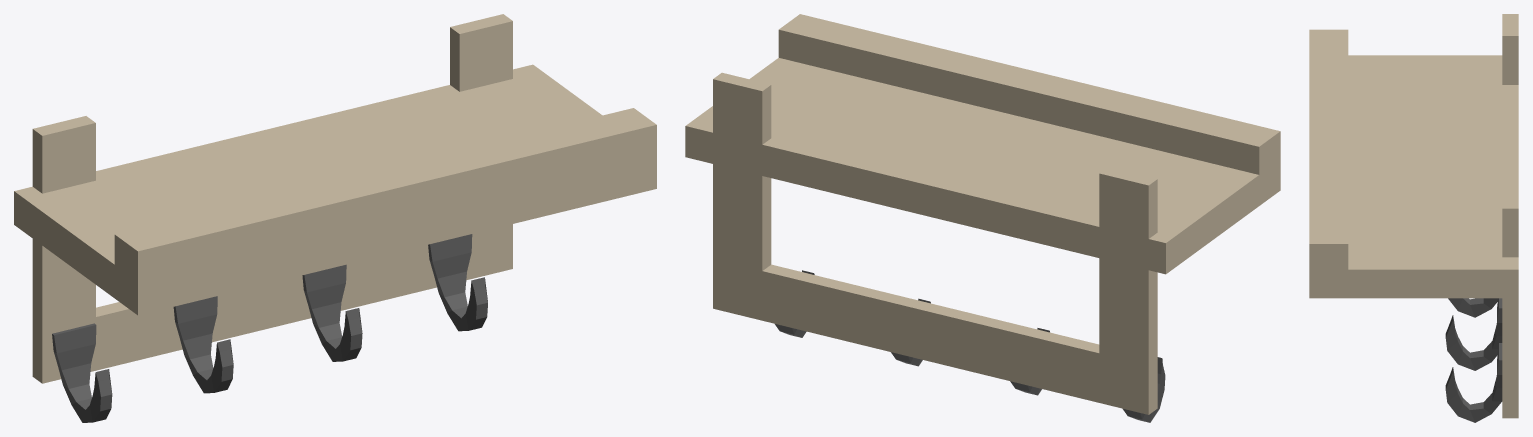
The model's file is PorteManteaux.fbx.
3 views of the same model, side by side, from view 1: azimuth 30°, elevation 25°; view 2: azimuth 150°, elevation 25°; view 3: azimuth 270°, elevation 25° (orthographic). The views are drawn at different scales.
Visible parts, largest first — view 1: PorteManteaux; view 2: PorteManteaux; view 3: PorteManteaux.
Part boxes in pixels (bbox=[...]): PorteManteaux: bbox=[14, 14, 656, 422]; PorteManteaux: bbox=[685, 14, 1280, 422]; PorteManteaux: bbox=[1309, 14, 1518, 422].
Bounding box in the file's own units: 71.6 × 37.07 × 29.58.
